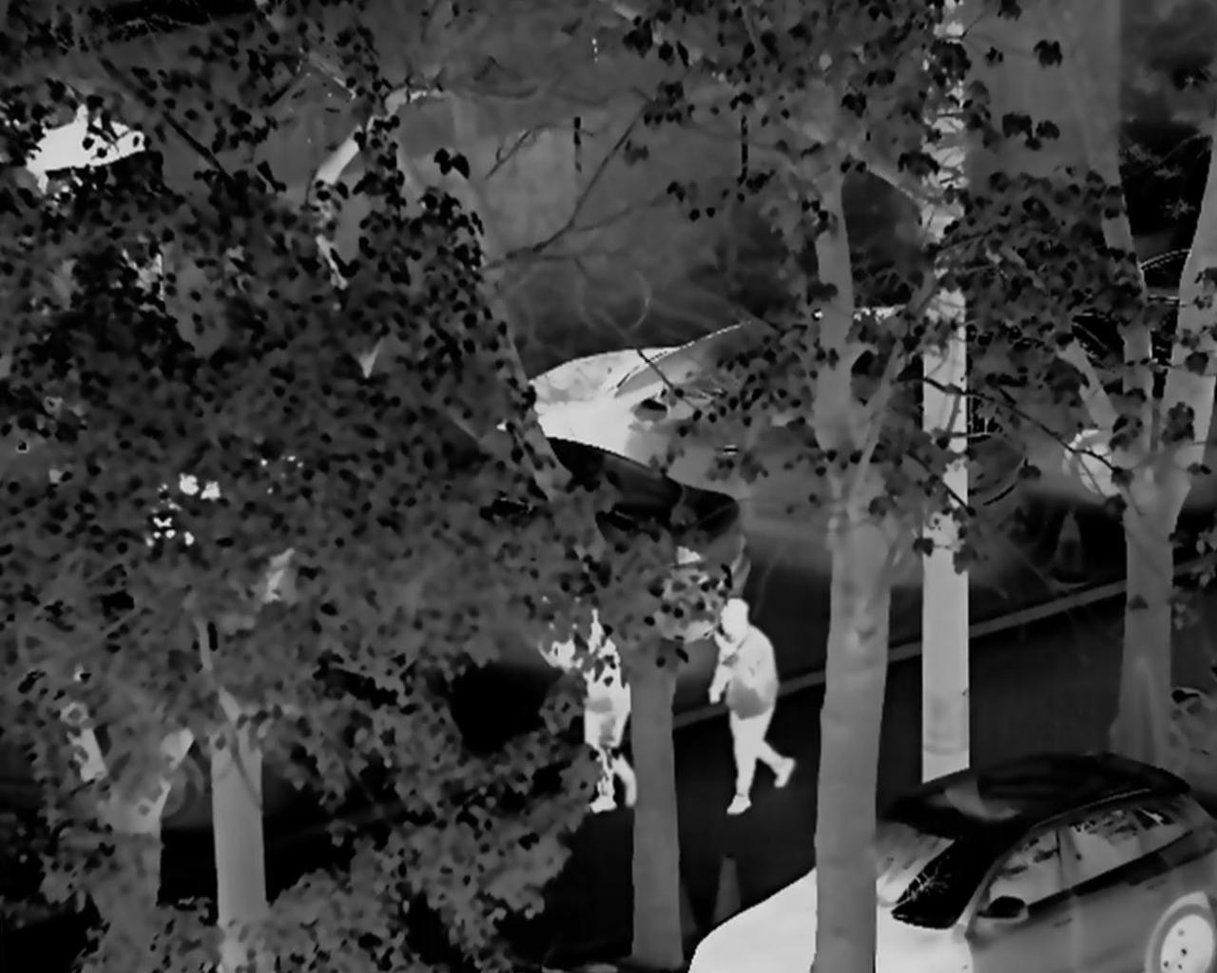person: (551, 591, 647, 832), (706, 592, 800, 815)
